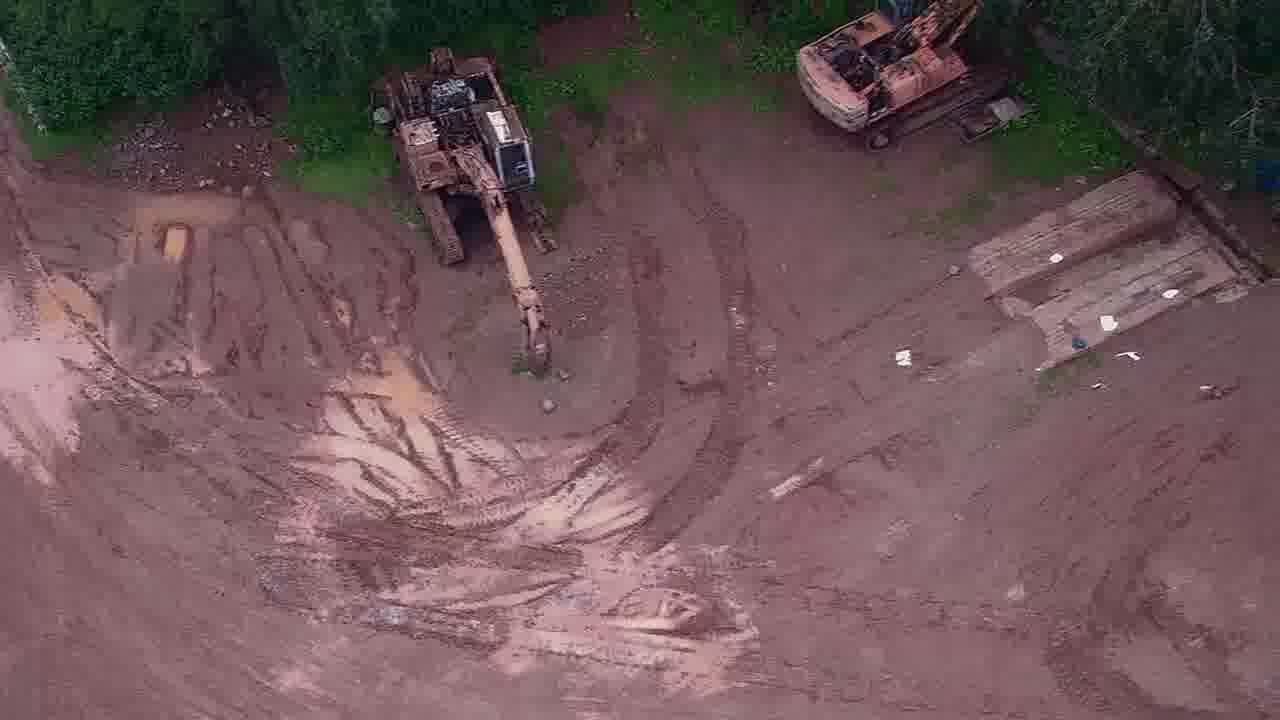HMV: (370, 41, 559, 375), (794, 1, 1000, 151)
